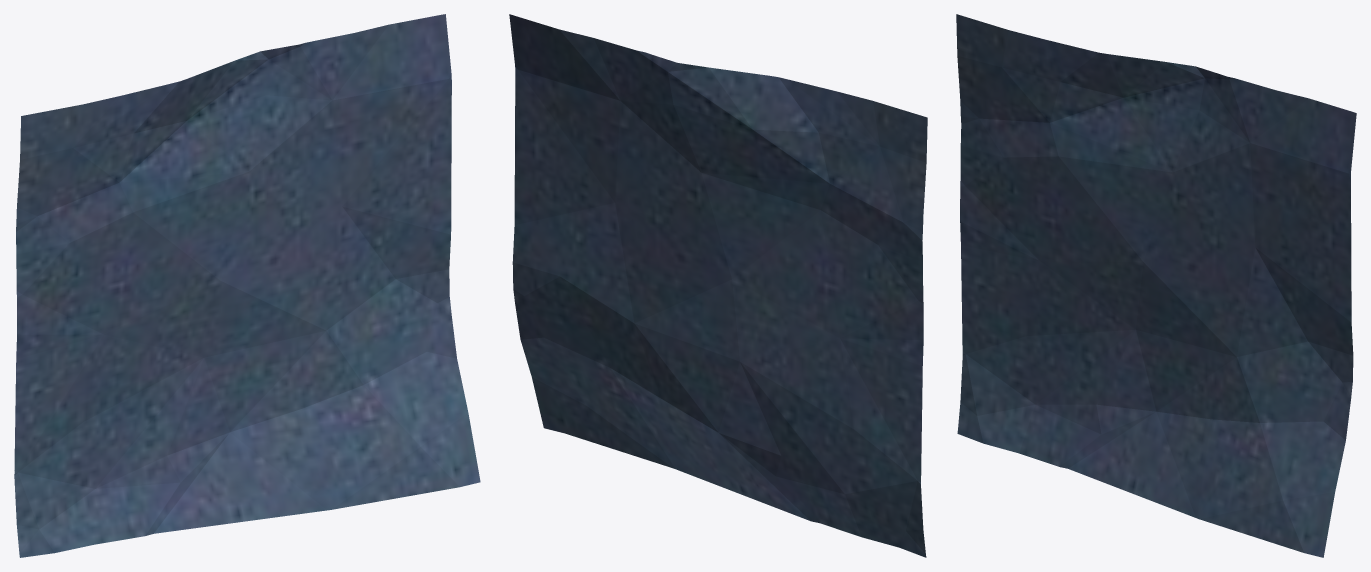
The model's file is Tile_+003_+007_L23_003102.obj.
3 renders of one model, left to right at view 1: azimuth 30°, elevation 25°; view 2: azimuth 150°, elevation 25°; view 3: azimuth 330°, elevation 25°, orthographic. The views are drawn at different scales.
Size of the model in its own units: 1.91 by 1.91 by 0.3398.
Materials: 1 (1 with a texture image).
